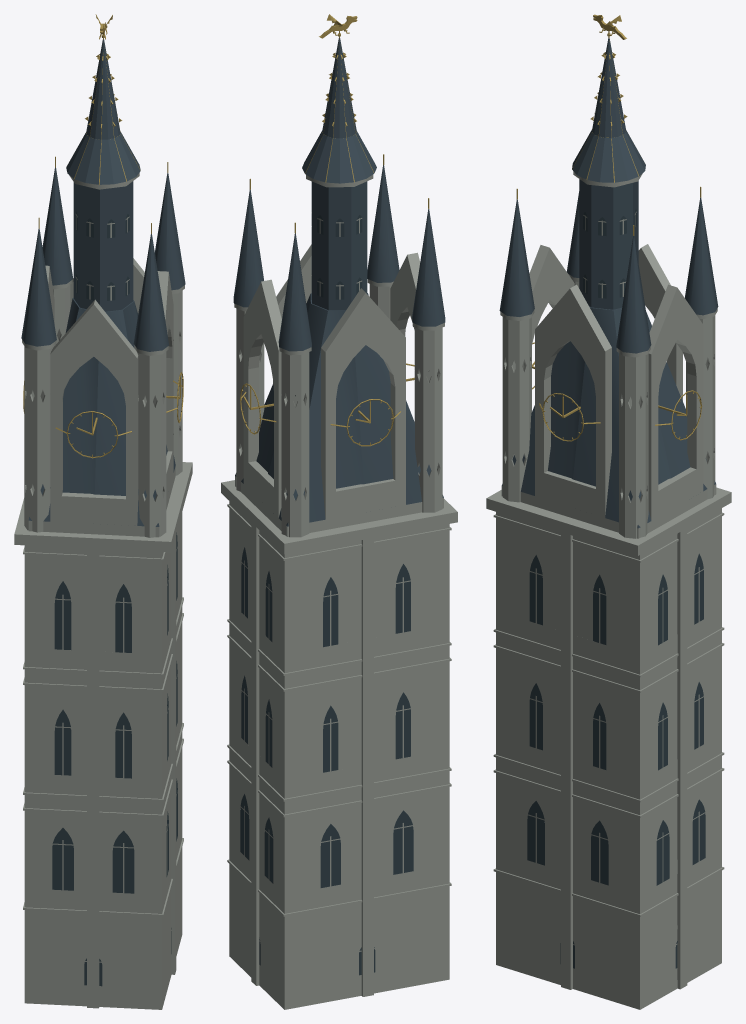
File: ghent-belfry-far.glb
3 renders of one model, left to right at view 1: azimuth 30°, elevation 25°; view 2: azimuth 150°, elevation 25°; view 3: azimuth 270°, elevation 25°, orthographic.
Visible parts, largest first — view 1: ghent-belfry-0-stone, ghent-belfry-0-roof, ghent-belfry-0-glass, ghent-belfry-0-gold; view 2: ghent-belfry-0-stone, ghent-belfry-0-roof, ghent-belfry-0-glass, ghent-belfry-0-gold; view 3: ghent-belfry-0-stone, ghent-belfry-0-roof, ghent-belfry-0-glass, ghent-belfry-0-gold.
Boxes of the visible parts, x1,y1,x2,y2 form: ghent-belfry-0-stone: (14,173,192,1009); ghent-belfry-0-roof: (21,39,185,526); ghent-belfry-0-glass: (52,211,177,986); ghent-belfry-0-gold: (23,14,183,458); ghent-belfry-0-stone: (221,174,457,1009); ghent-belfry-0-roof: (233,38,445,526); ghent-belfry-0-glass: (240,213,413,975); ghent-belfry-0-gold: (240,14,429,446); ghent-belfry-0-stone: (486,171,731,1009); ghent-belfry-0-roof: (499,38,718,528); ghent-belfry-0-glass: (527,209,705,968); ghent-belfry-0-gold: (516,14,702,441).
Bounding box in the file's own units: 20.77 × 91 × 21.33.
